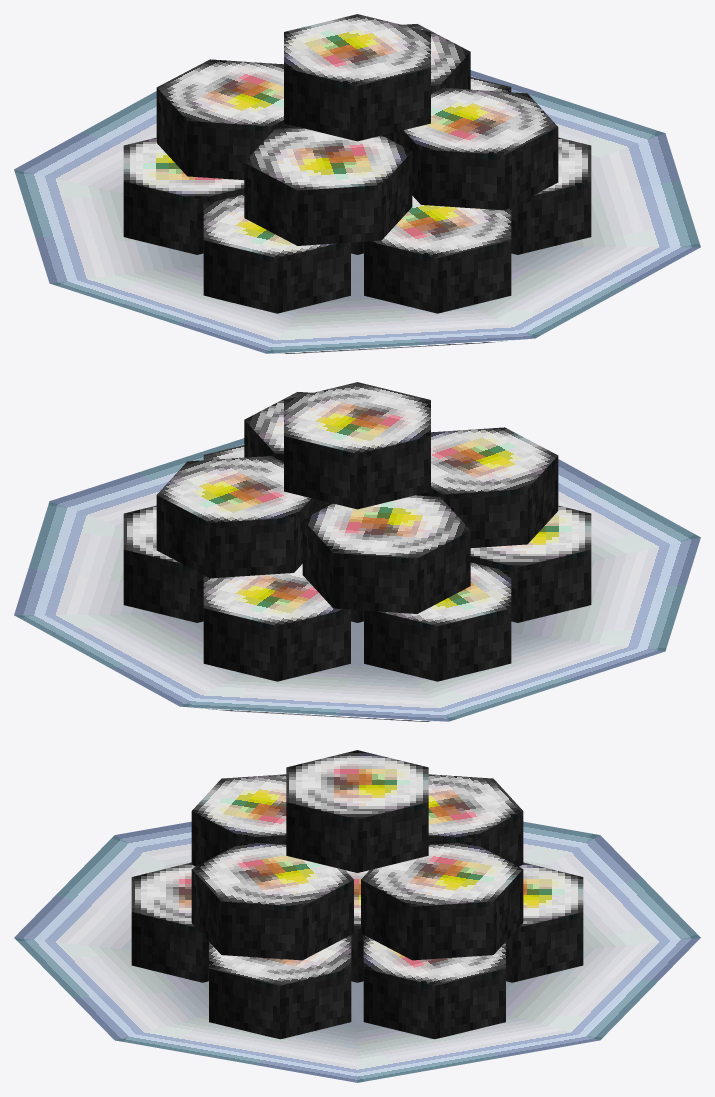
The model's file is int_oth_makizushi.dae.
The picture shows the model from 3 angles, top to bottom: view 1: azimuth 30°, elevation 25°; view 2: azimuth 150°, elevation 25°; view 3: azimuth 270°, elevation 25°; orthographic projection. The views are drawn at different scales.
Visible parts, largest first — view 1: int_oth_makizushi; view 2: int_oth_makizushi; view 3: int_oth_makizushi.
Boxes of the visible parts, <box> form: int_oth_makizushi: <box>14,14,700,353</box>; int_oth_makizushi: <box>14,382,700,721</box>; int_oth_makizushi: <box>14,750,700,1082</box>.
Size of the model in its own units: 25.67 by 8.04 by 25.67.
1 material, 1 textured.
